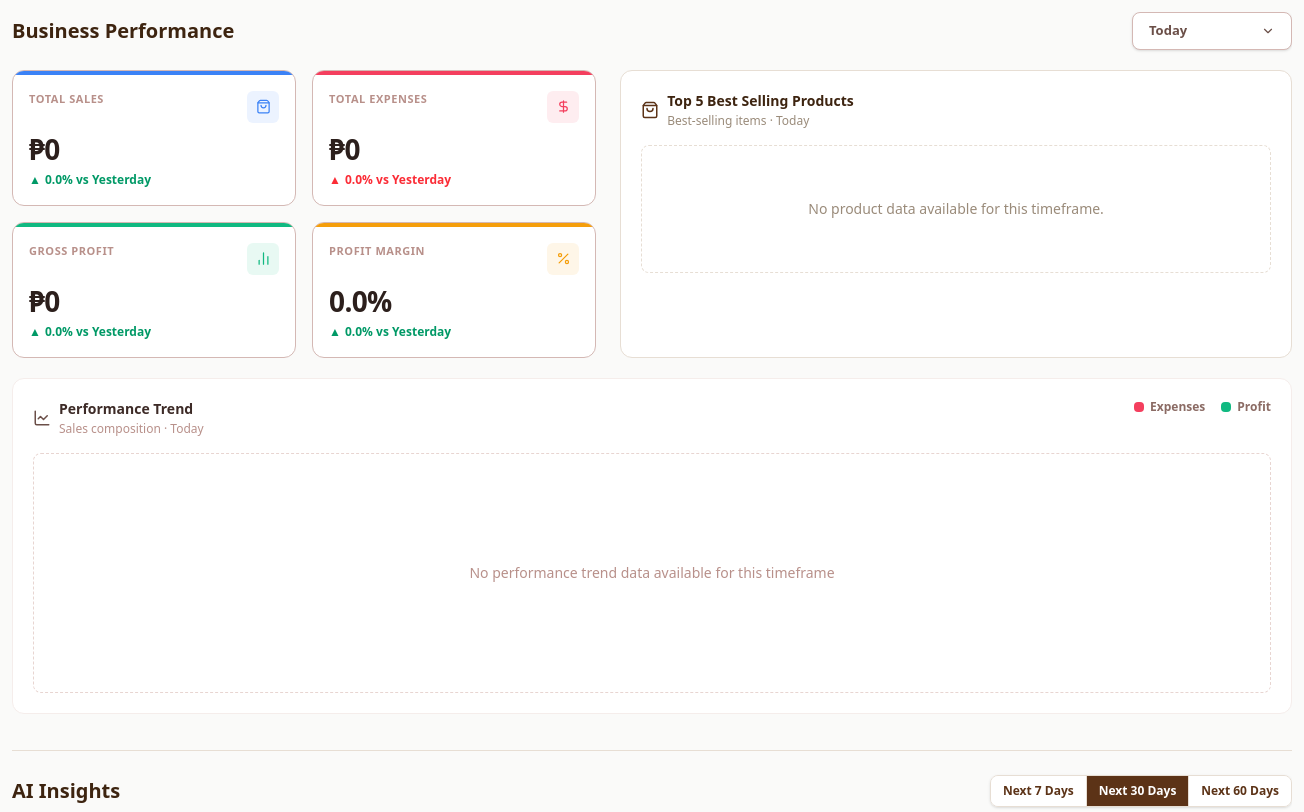
AnalyticsPage Integration Tests › should update FourKpi, StackedBar, and TopProductsList when the Performance Timeframe is clicked
Click the button "Today" at (1212, 31), box 1132,12 -> 1292,50
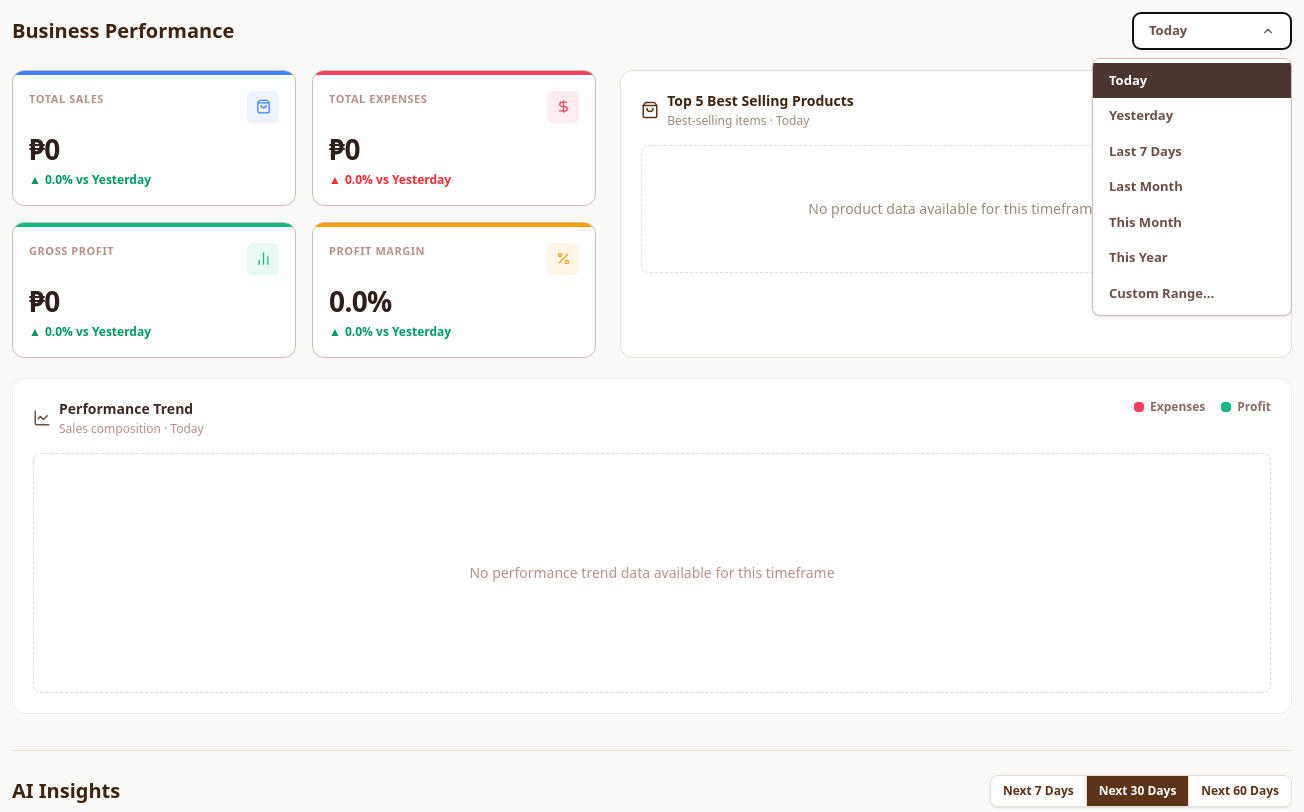
Click the menu item "This Year" at (1192, 258), box 1093,240 -> 1291,276
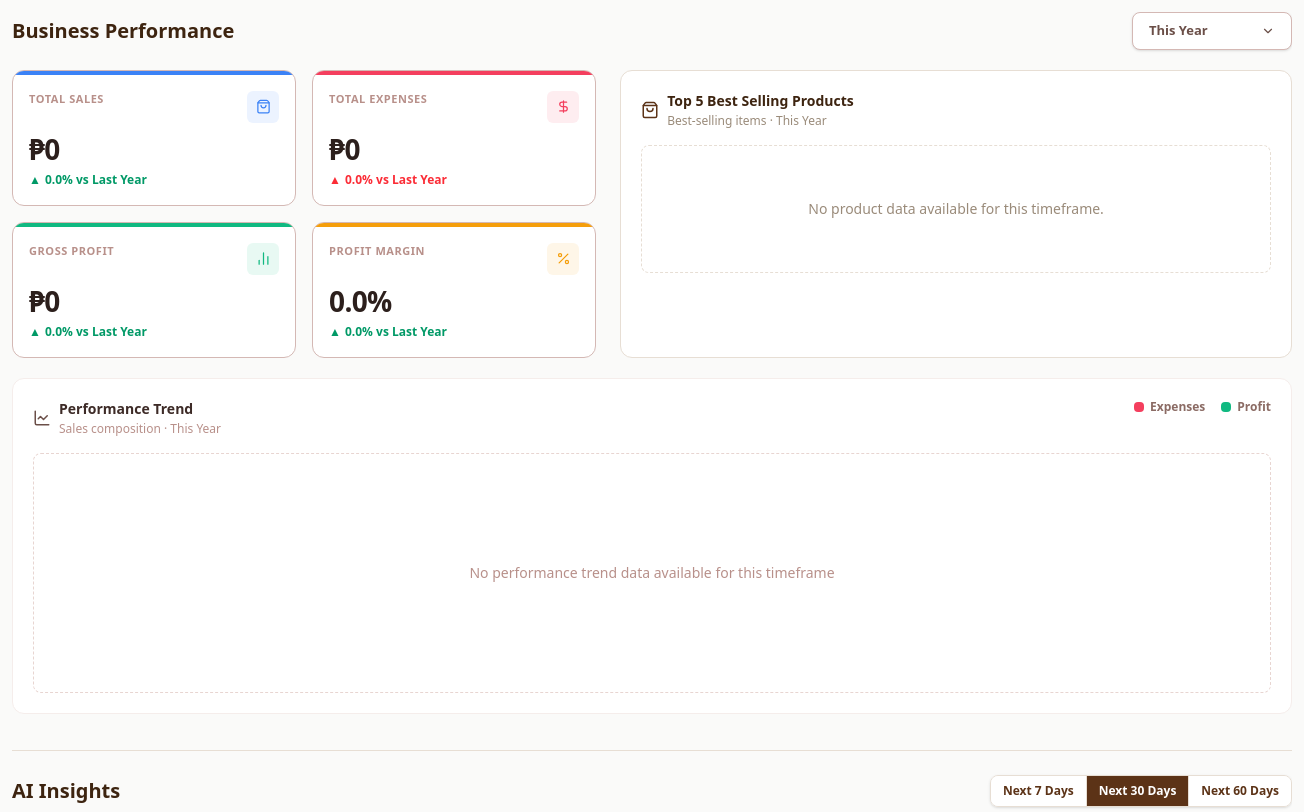
Result: the text "0.0% vs Last Year" below "Total Sales" is shown at 45,170 -> 147,188
Result: the text "Sales composition · This Year" is shown at 59,420 -> 221,436
Result: the text "Best-selling items · This Year" is shown at 667,112 -> 854,128
